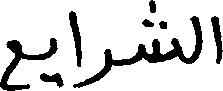X: (139, 0, 178, 67), (0, 35, 20, 90), (42, 33, 60, 90), (89, 44, 109, 88), (70, 6, 79, 90), (212, 11, 222, 68), (193, 11, 200, 67)
